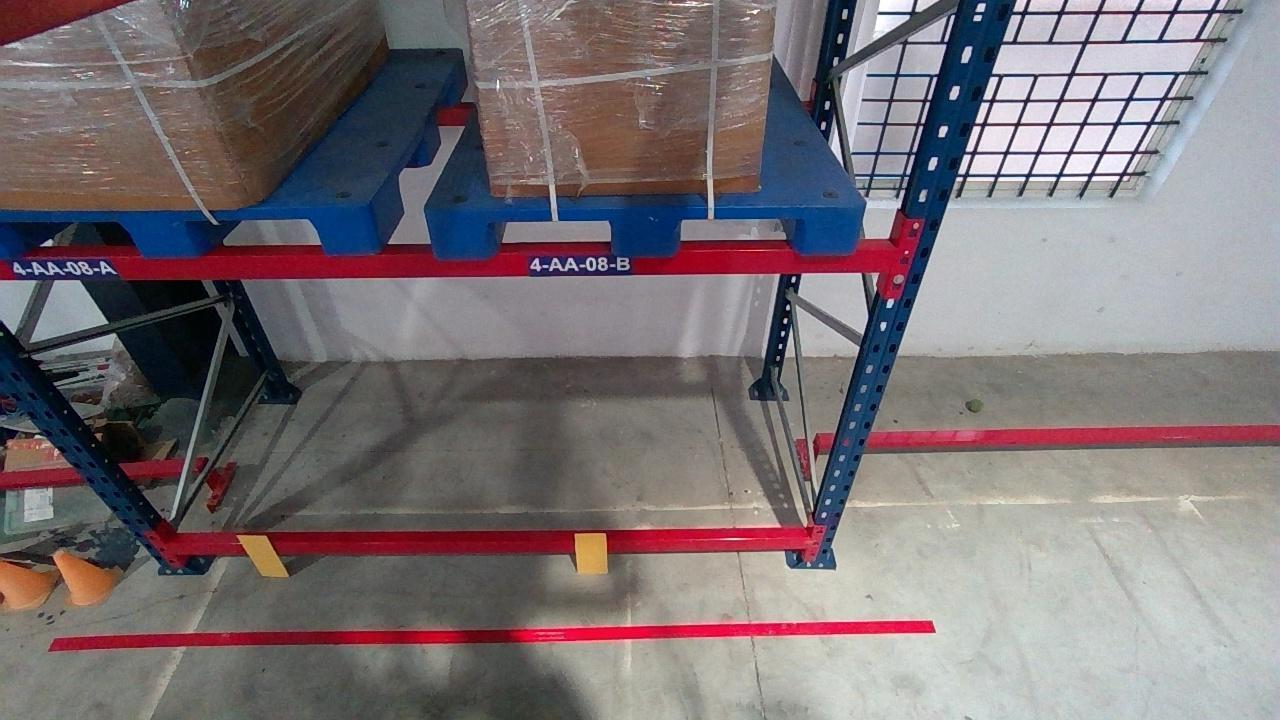red_line: (41, 619, 935, 646)
